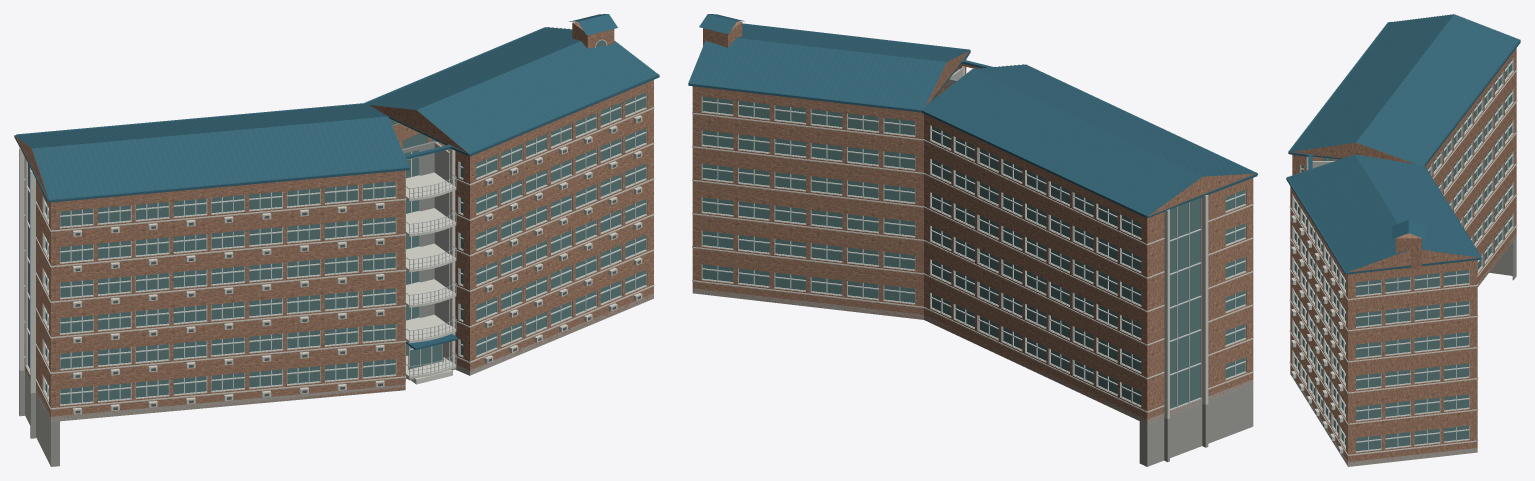
3 views of the same model, side by side, from view 1: azimuth 30°, elevation 25°; view 2: azimuth 150°, elevation 25°; view 3: azimuth 270°, elevation 25° (orthographic). The views are drawn at different scales.
Visible parts, largest first — view 1: seyeon-2__brick, seyeon-2__gableRoofs, seyeon-2__roomGlass, seyeon-2__frame, seyeon-2__storeyLedges, seyeon-2__reveal, seyeon-2__roofSeams, seyeon-2__airUnits, seyeon-2__balconySlabs, seyeon-2__coreUprights, seyeon-2__foundation, seyeon-2__roofGutter (+9 smaller); view 2: seyeon-2__brick, seyeon-2__gableRoofs, seyeon-2__roomGlass, seyeon-2__frame, seyeon-2__storeyLedges, seyeon-2__coreGlass, seyeon-2__reveal, seyeon-2__roofSeams, seyeon-2__foundationRetainingSkirt_astra10, seyeon-2__roofGutter, seyeon-2__foundation, seyeon-2__coreUprights (+1 smaller); view 3: seyeon-2__gableRoofs, seyeon-2__brick, seyeon-2__roomGlass, seyeon-2__frame, seyeon-2__reveal, seyeon-2__storeyLedges, seyeon-2__roofSeams, seyeon-2__gableEnds, seyeon-2__roofGutter, seyeon-2__airUnits, seyeon-2__foundation, seyeon-2__endRoofTurret (+2 smaller).
Boxes of the visible parts, box(x1,y1,x2,y2) form: seyeon-2__brick: box(19, 80, 653, 420); seyeon-2__gableRoofs: box(15, 27, 659, 200); seyeon-2__roomGlass: box(45, 93, 645, 404); seyeon-2__frame: box(26, 92, 646, 405); seyeon-2__storeyLedges: box(24, 107, 654, 409); seyeon-2__reveal: box(25, 92, 647, 405); seyeon-2__roofSeams: box(14, 27, 658, 199); seyeon-2__airUnits: box(73, 115, 642, 414); seyeon-2__balconySlabs: box(405, 172, 456, 378); seyeon-2__coreUprights: box(19, 148, 455, 393); seyeon-2__foundation: box(24, 293, 653, 421); seyeon-2__roofGutter: box(15, 27, 658, 201); seyeon-2__brick: box(692, 59, 1253, 423); seyeon-2__gableRoofs: box(688, 24, 1255, 216); seyeon-2__roomGlass: box(702, 70, 1244, 405); seyeon-2__frame: box(701, 96, 1245, 409); seyeon-2__storeyLedges: box(692, 112, 1253, 412); seyeon-2__coreGlass: box(1170, 198, 1200, 408); seyeon-2__reveal: box(701, 101, 1246, 407); seyeon-2__roofSeams: box(688, 24, 1253, 215); seyeon-2__foundationRetainingSkirt_astra10: box(1139, 384, 1253, 466); seyeon-2__roofGutter: box(689, 23, 1257, 217); seyeon-2__foundation: box(692, 288, 1253, 424); seyeon-2__coreUprights: box(962, 66, 1208, 419); seyeon-2__gableRoofs: box(1287, 14, 1520, 272); seyeon-2__brick: box(1290, 48, 1516, 465); seyeon-2__roomGlass: box(1294, 60, 1511, 451); seyeon-2__frame: box(1293, 58, 1513, 452); seyeon-2__reveal: box(1292, 56, 1514, 452); seyeon-2__storeyLedges: box(1289, 69, 1517, 455); seyeon-2__roofSeams: box(1290, 14, 1517, 269); seyeon-2__gableEnds: box(1290, 142, 1479, 272); seyeon-2__roofGutter: box(1286, 22, 1520, 274); seyeon-2__airUnits: box(1291, 215, 1343, 453); seyeon-2__foundation: box(1290, 233, 1516, 466); seyeon-2__endRoofTurret: box(1395, 233, 1421, 268).
Bounding box in the file's own units: 56.19 × 28.05 × 22.21.
Materials: 12 (1 with a texture image).
